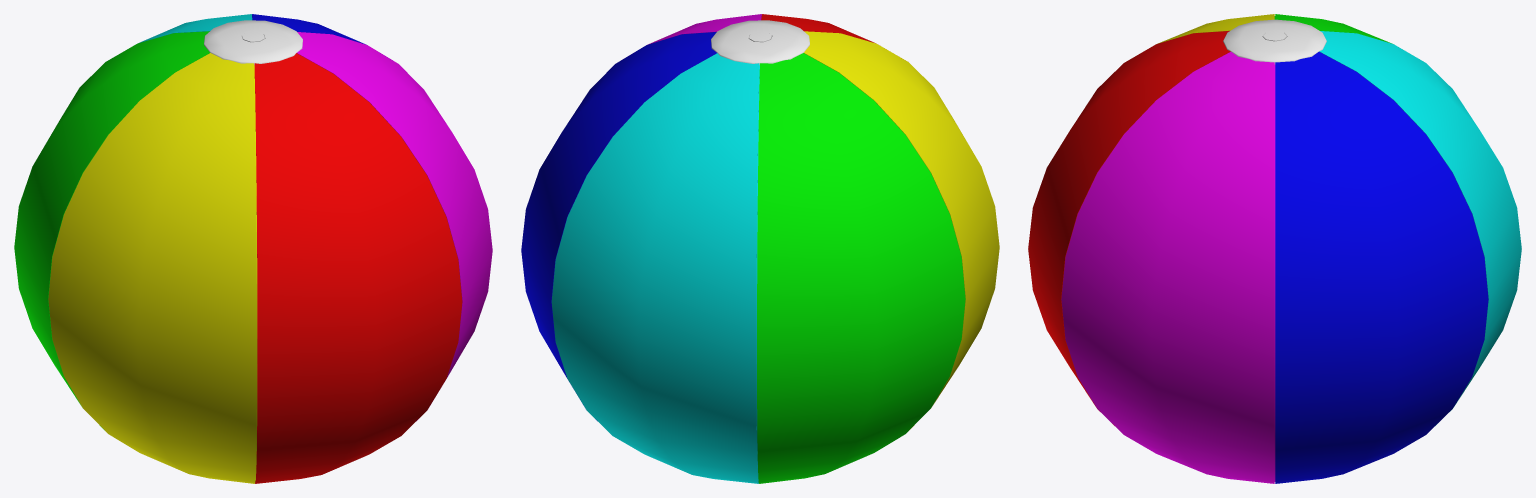
File: BeachBall.glb
The picture shows the model from 3 angles, left to right: view 1: azimuth 30°, elevation 25°; view 2: azimuth 150°, elevation 25°; view 3: azimuth 270°, elevation 25°; orthographic projection.
Visible parts, largest first — view 1: g_BeachBall_Sphere.001; view 2: g_BeachBall_Sphere.001; view 3: g_BeachBall_Sphere.001.
Boxes of the visible parts, box(x1,y1,x2,y2) form: g_BeachBall_Sphere.001: box(14, 14, 492, 483); g_BeachBall_Sphere.001: box(521, 14, 999, 483); g_BeachBall_Sphere.001: box(1028, 14, 1521, 483).
Size of the model in its own units: 41.14 by 40.68 by 42.67.
